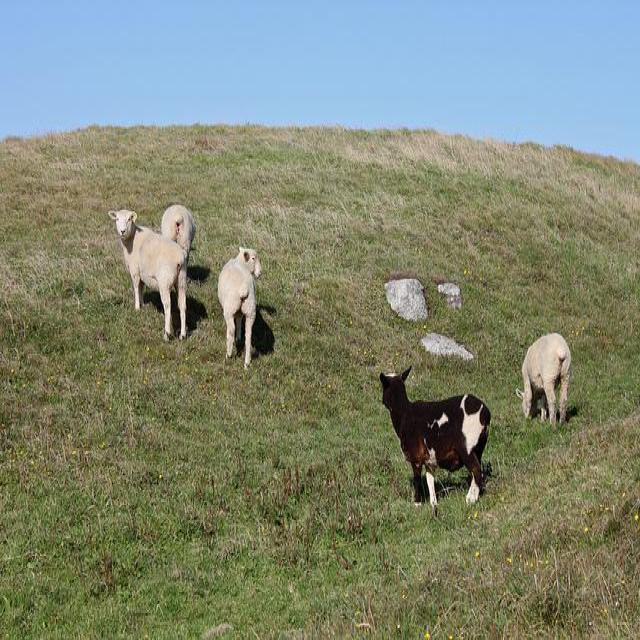Sheep: (379, 366, 493, 510), (107, 210, 188, 343), (512, 331, 571, 435), (218, 246, 262, 372), (159, 205, 197, 270)
